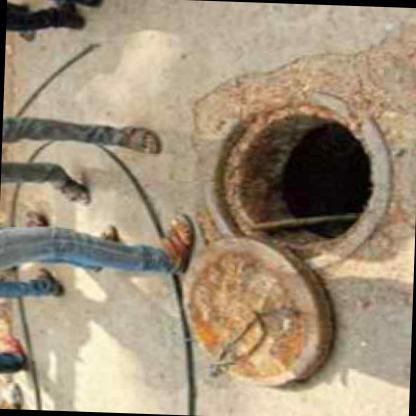manholes: (164, 69, 402, 397)
